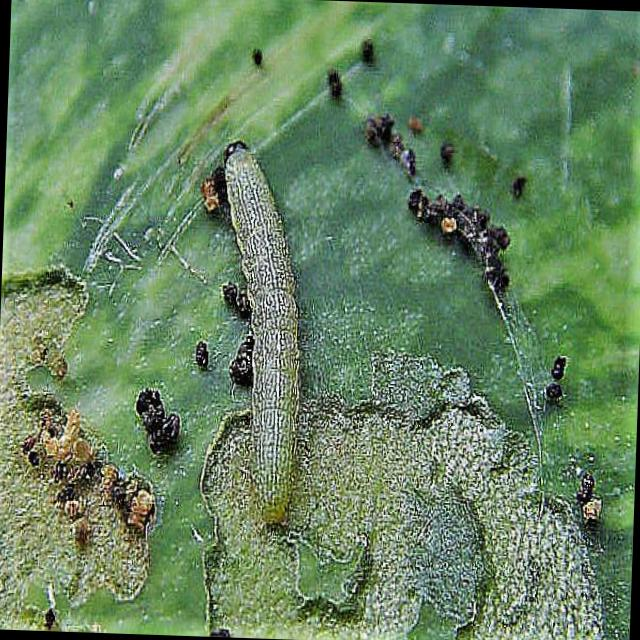Armyworm: (187, 109, 353, 556)
